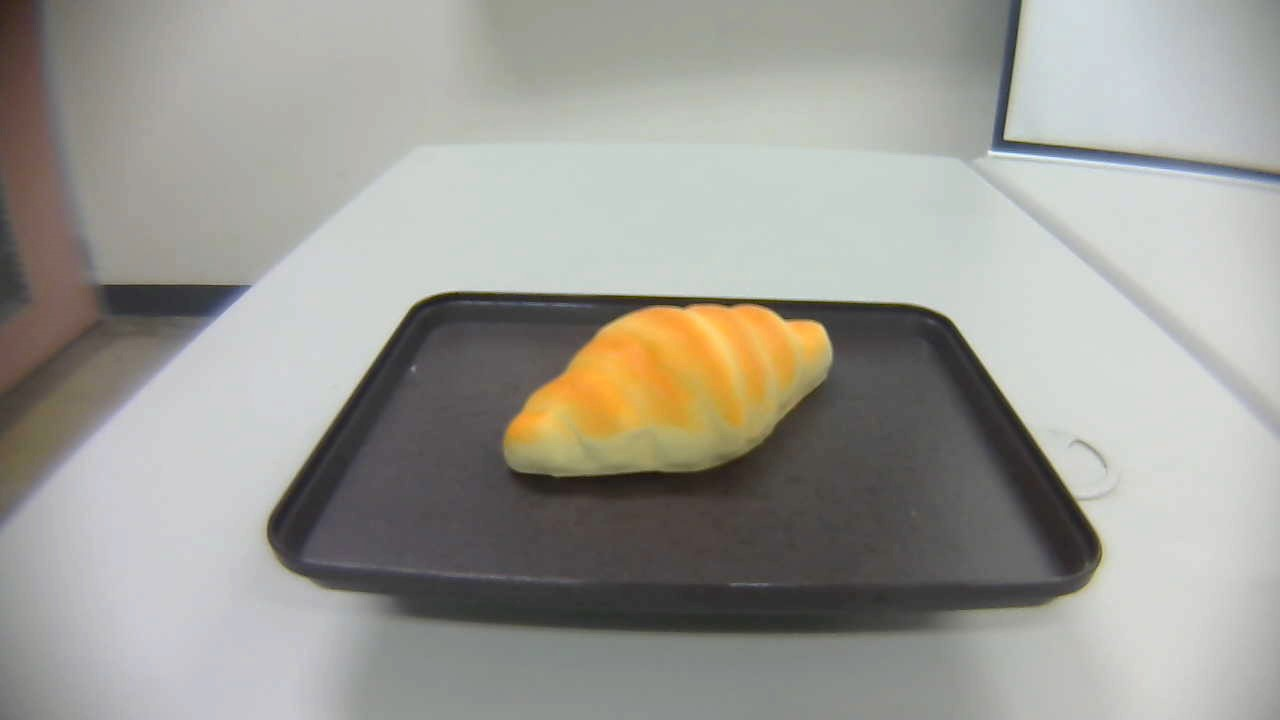croissant: (499, 302, 839, 479)
